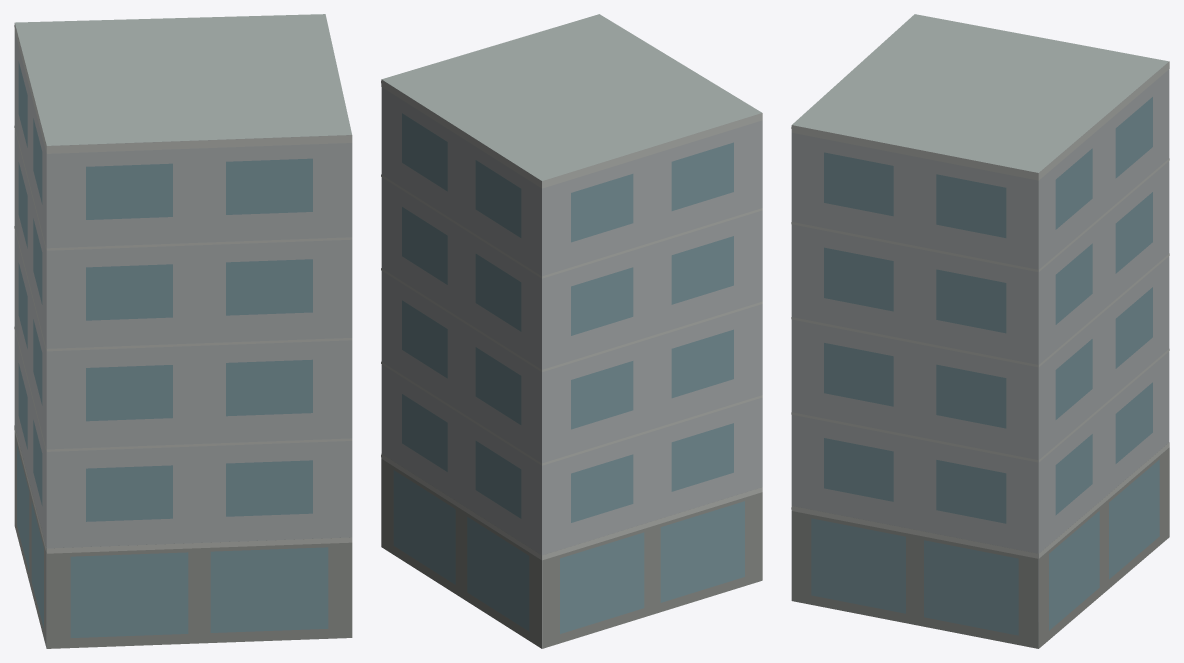
File: survey-upis-32727127.glb
3 views of the same model, side by side, from view 1: azimuth 30°, elevation 25°; view 2: azimuth 150°, elevation 25°; view 3: azimuth 270°, elevation 25° (orthographic). The views are drawn at different scales.
Parts seen in each view (by area): view 1: survey-upis-32727127.tmp; view 2: survey-upis-32727127.tmp; view 3: survey-upis-32727127.tmp.
Part boxes in pixels (x1=…): survey-upis-32727127.tmp: x1=14, y1=14, x2=352, y2=648; survey-upis-32727127.tmp: x1=381, y1=14, x2=762, y2=648; survey-upis-32727127.tmp: x1=791, y1=14, x2=1169, y2=648.
Size of the model in its own units: 10.95 by 15.25 by 10.99.
